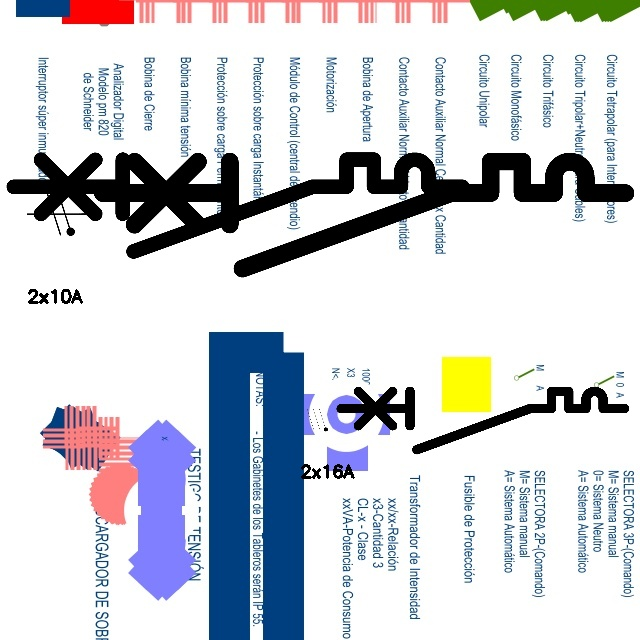interruptor_termomagnetico: (89, 148, 639, 282), (2, 148, 474, 263), (333, 384, 631, 457)
